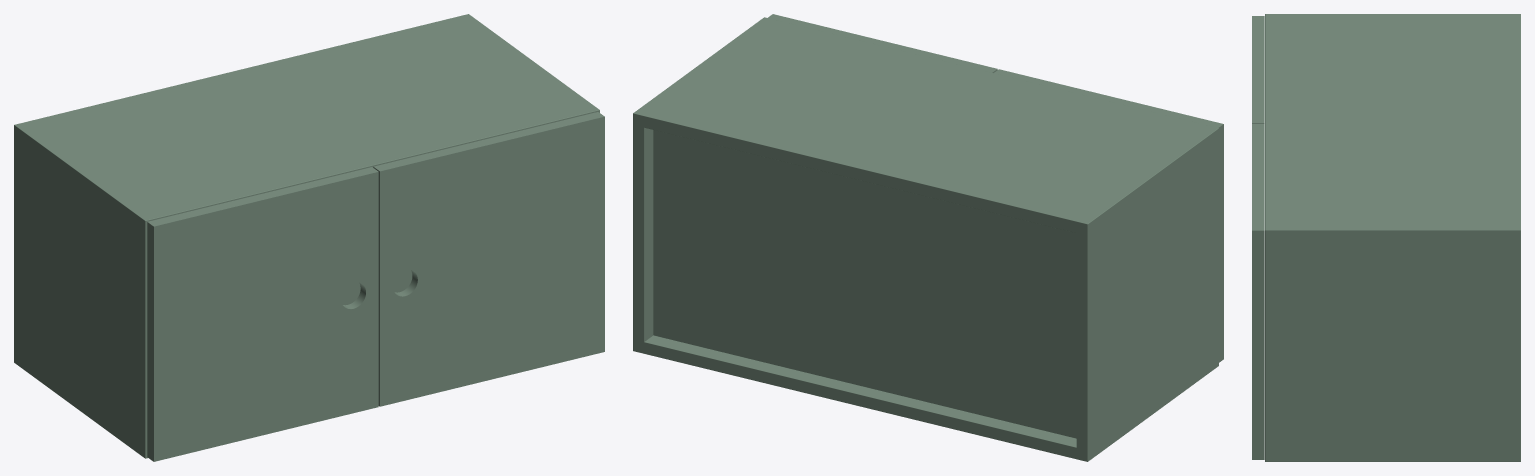
Rendered from MOD_2X1_D_B_VA.glb.
The picture shows the model from 3 angles, left to right: view 1: azimuth 30°, elevation 25°; view 2: azimuth 150°, elevation 25°; view 3: azimuth 270°, elevation 25°; orthographic projection. The views are drawn at different scales.
Size of the model in its own units: 720 by 360 by 378.
